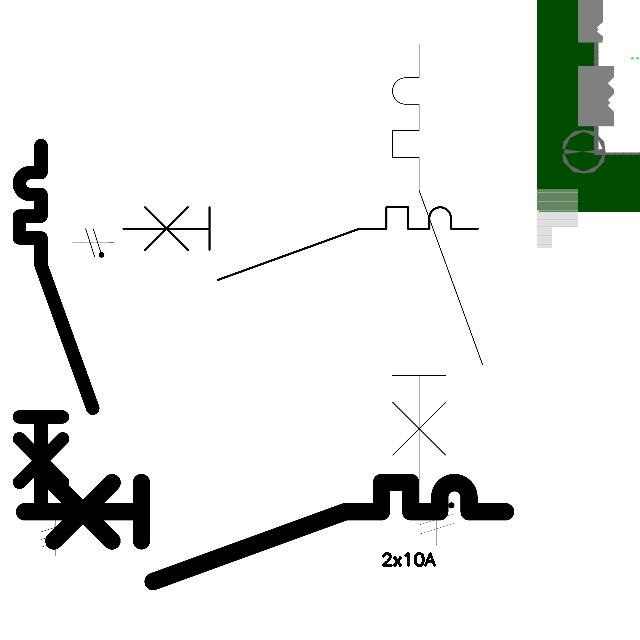interruptor_termomagnetico: (12, 470, 518, 594), (381, 33, 493, 493), (10, 136, 102, 513), (114, 198, 487, 289)
